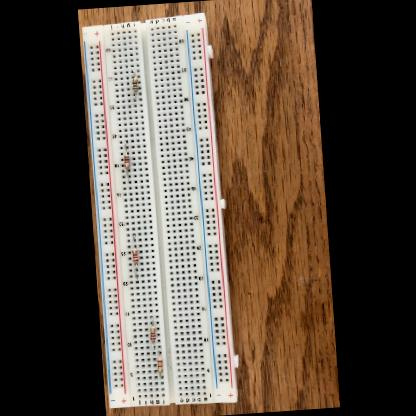breadboard: (79, 12, 241, 411)
resistor: (130, 248, 138, 263), (155, 356, 162, 372), (148, 325, 154, 341), (122, 154, 128, 168), (131, 77, 137, 91)
wire: (134, 263, 137, 281), (126, 168, 130, 181), (123, 140, 126, 153), (132, 92, 136, 100), (130, 69, 134, 77), (132, 234, 134, 247), (151, 340, 154, 348), (150, 316, 153, 324), (158, 346, 160, 356), (158, 372, 160, 378)
